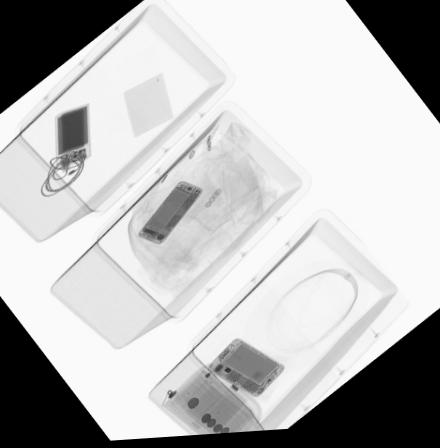Powerbank: (57, 104, 91, 166)
